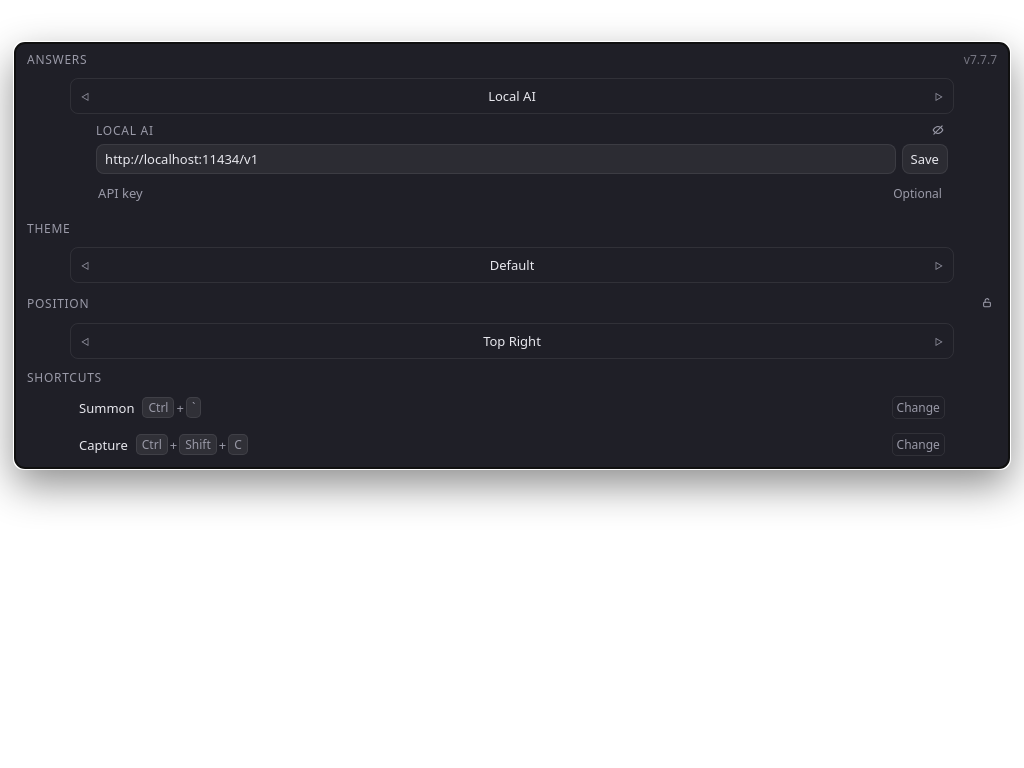
a failed address save shows the error under the row and keeps the draft
The width and height of the screenshot is (1024, 768).
Replace the text in the field named "Local AI server address" with "ftp://nope" at (496, 159), box x1=96 y1=144 x2=896 y2=174
Then press Enter
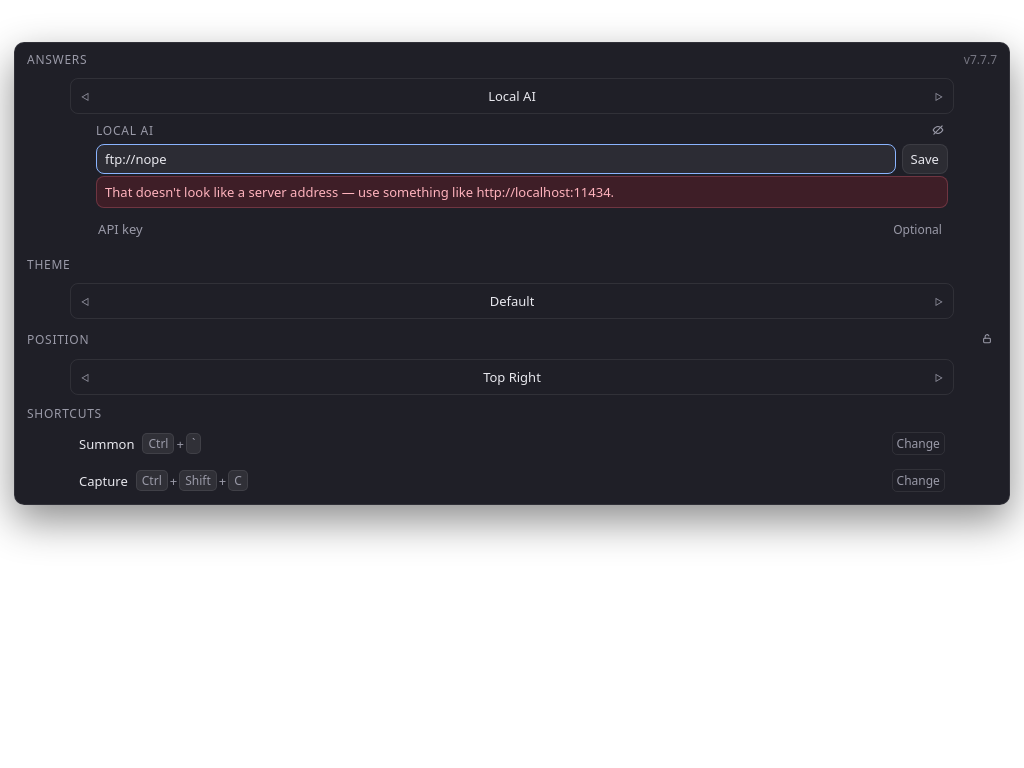
Expected: the text "doesn't look like a server address" is shown, x1=105 y1=183 x2=614 y2=201
